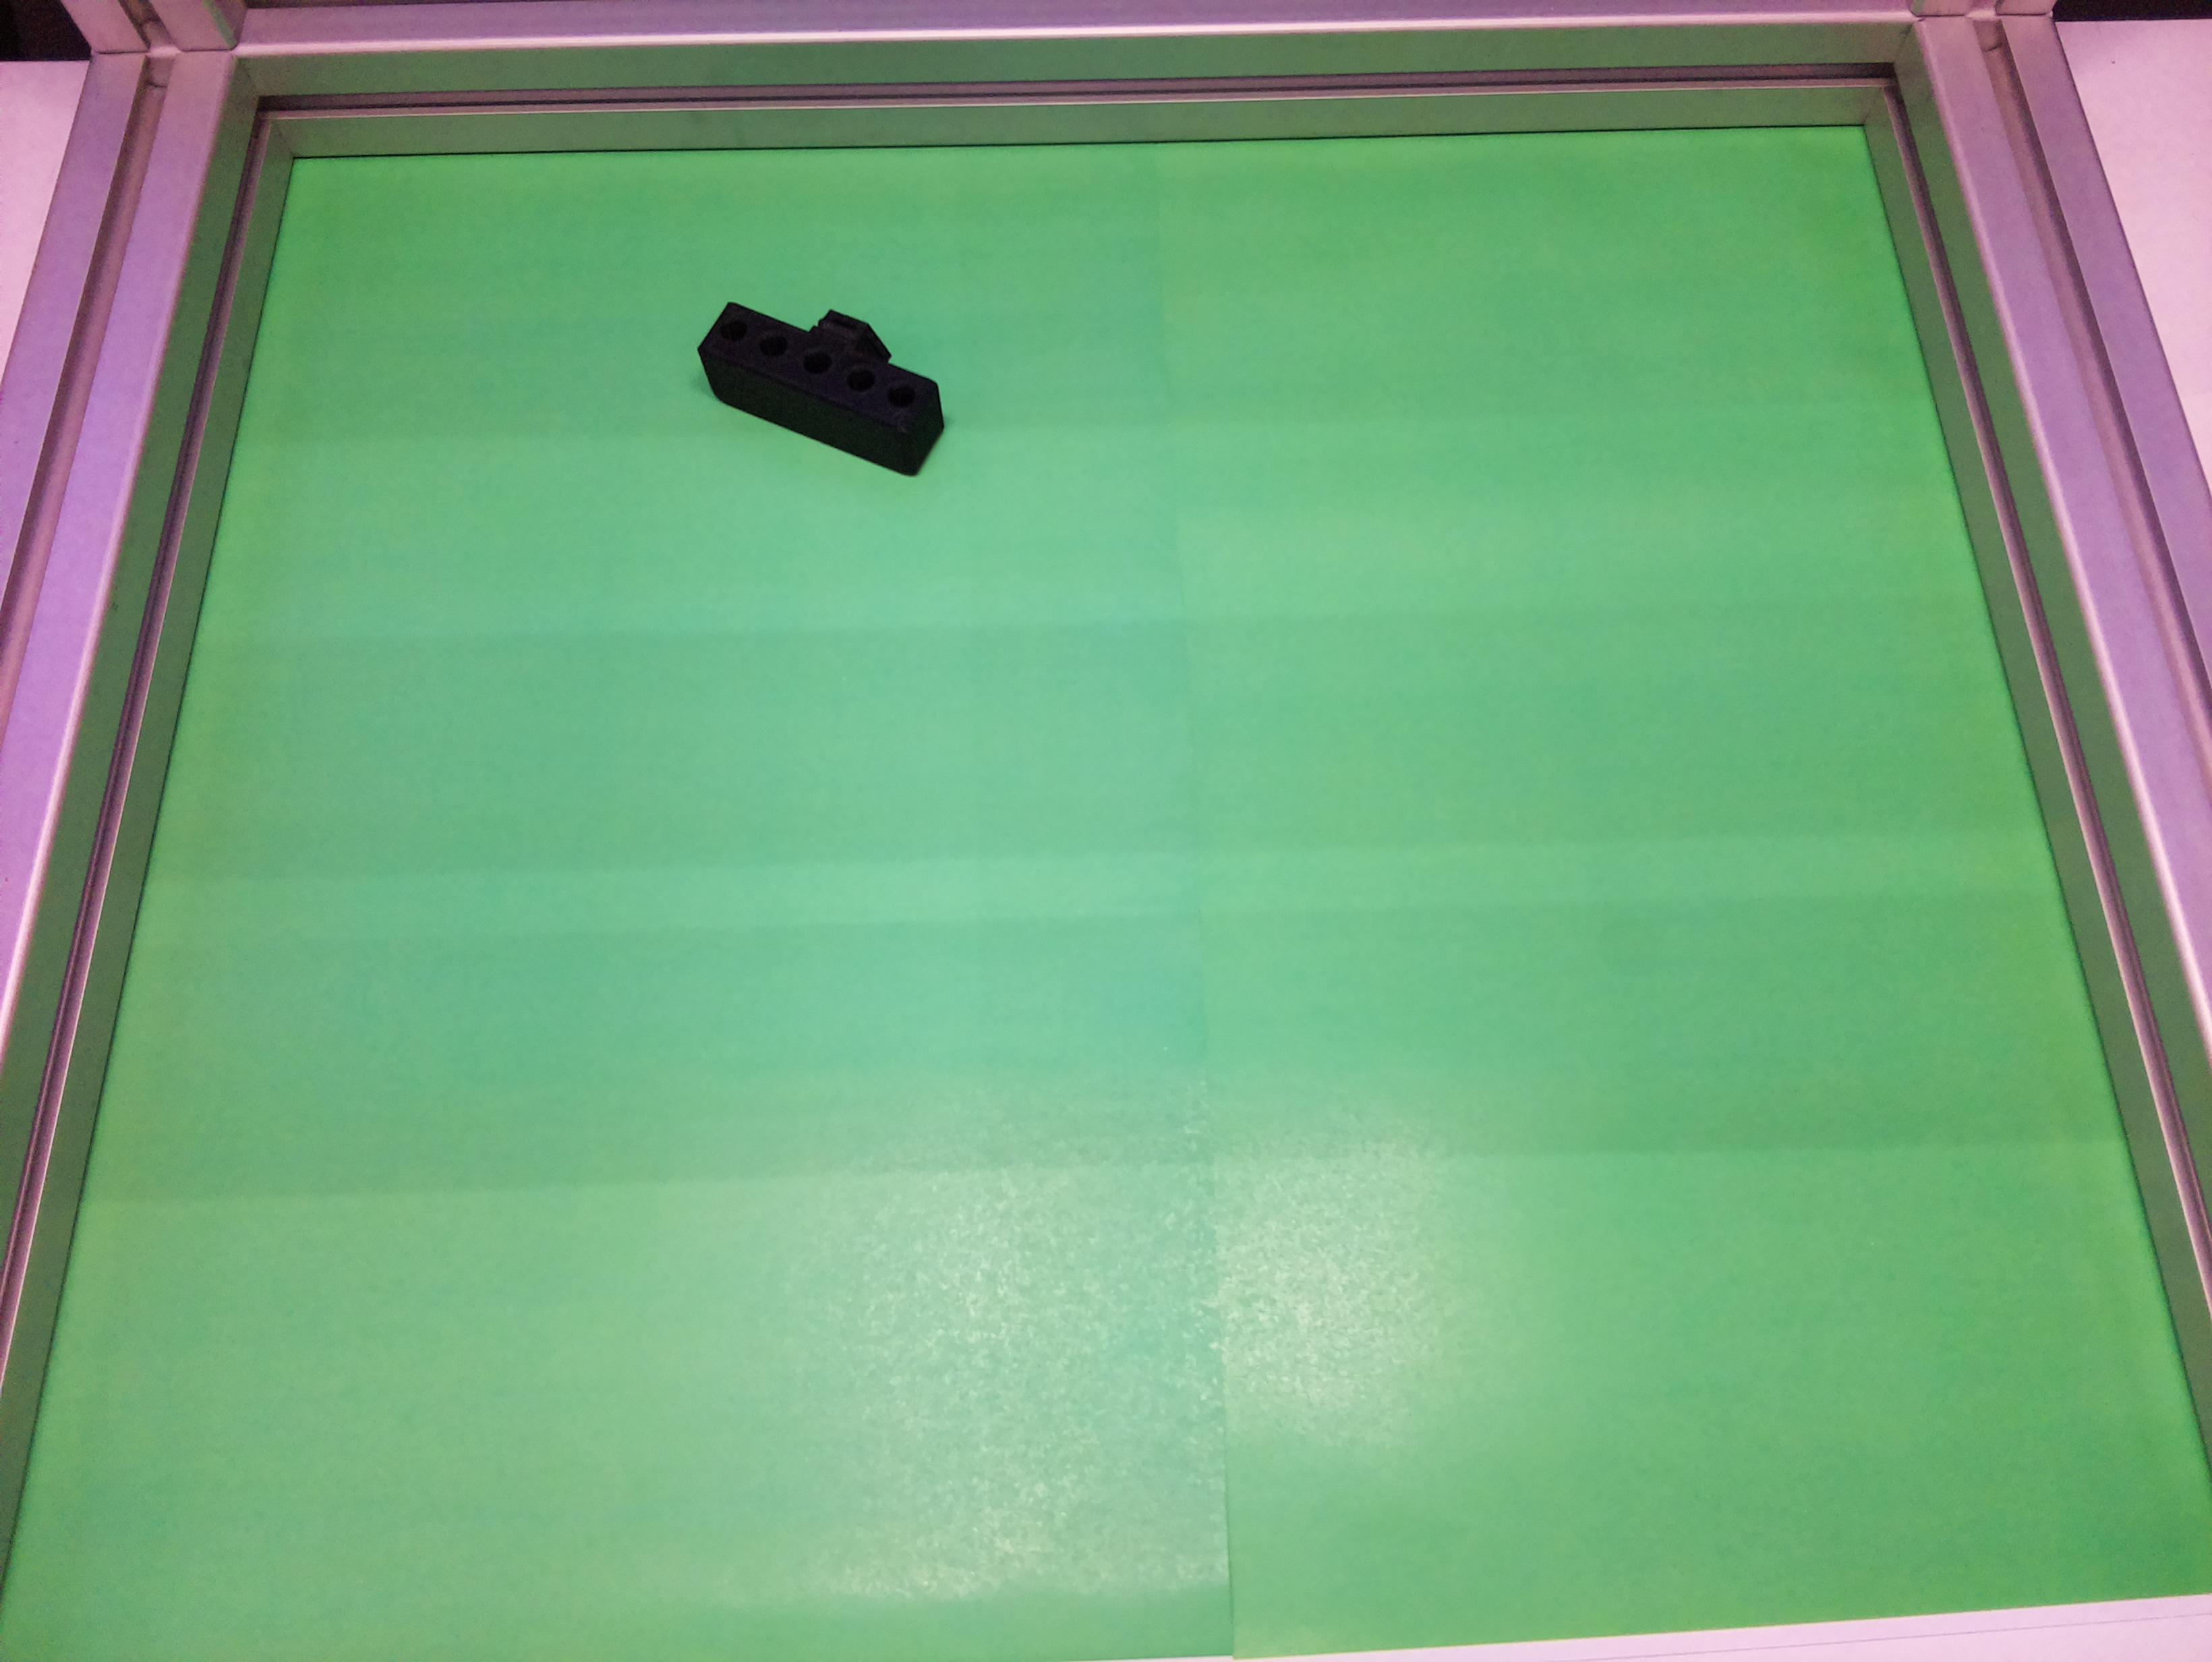bit_holder: (682, 269, 969, 483)
